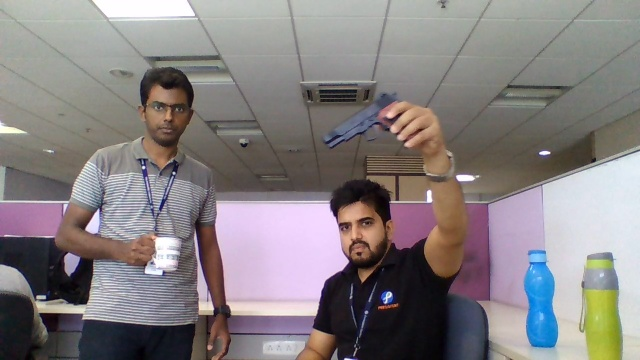gun: (321, 107, 386, 149)
